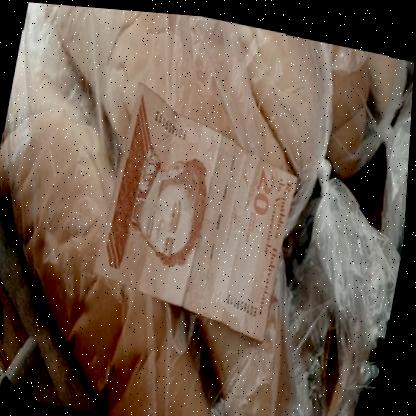twenty-front-vef: (86, 73, 311, 340)
